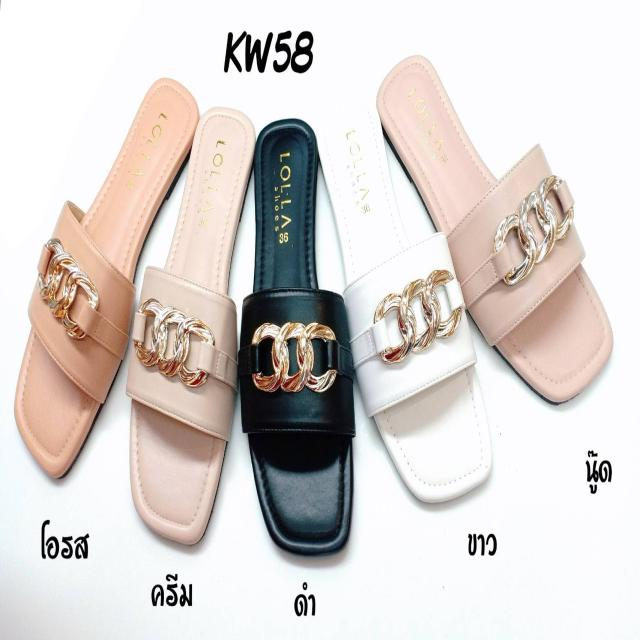black: (240, 114, 354, 555)
cream: (128, 112, 256, 547)
nood: (378, 59, 615, 407)
orot: (12, 77, 198, 476)
white: (316, 100, 495, 508)
